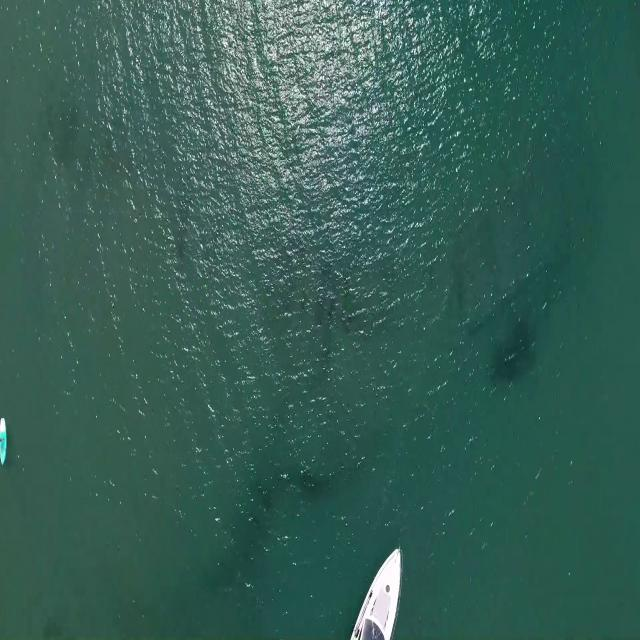boat: (354, 542, 403, 640)
surfboard: (0, 417, 7, 465)
